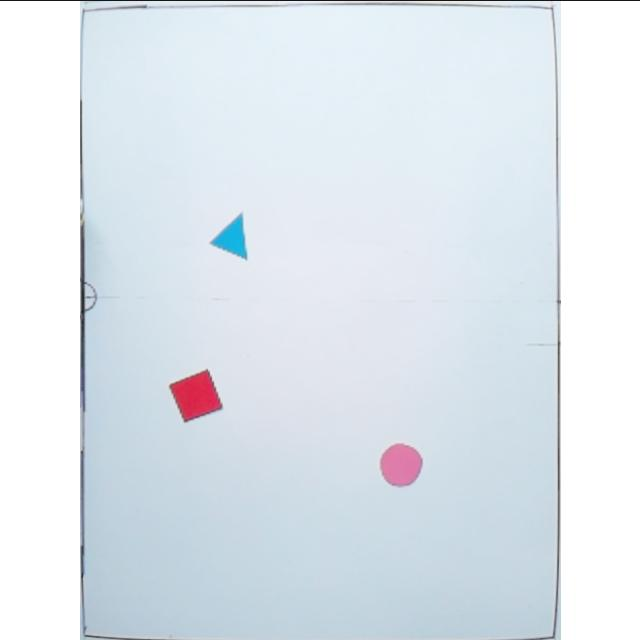blueTriangle: (206, 209, 250, 261)
pinkCircle: (377, 440, 423, 488)
redSquare: (166, 367, 224, 423)
